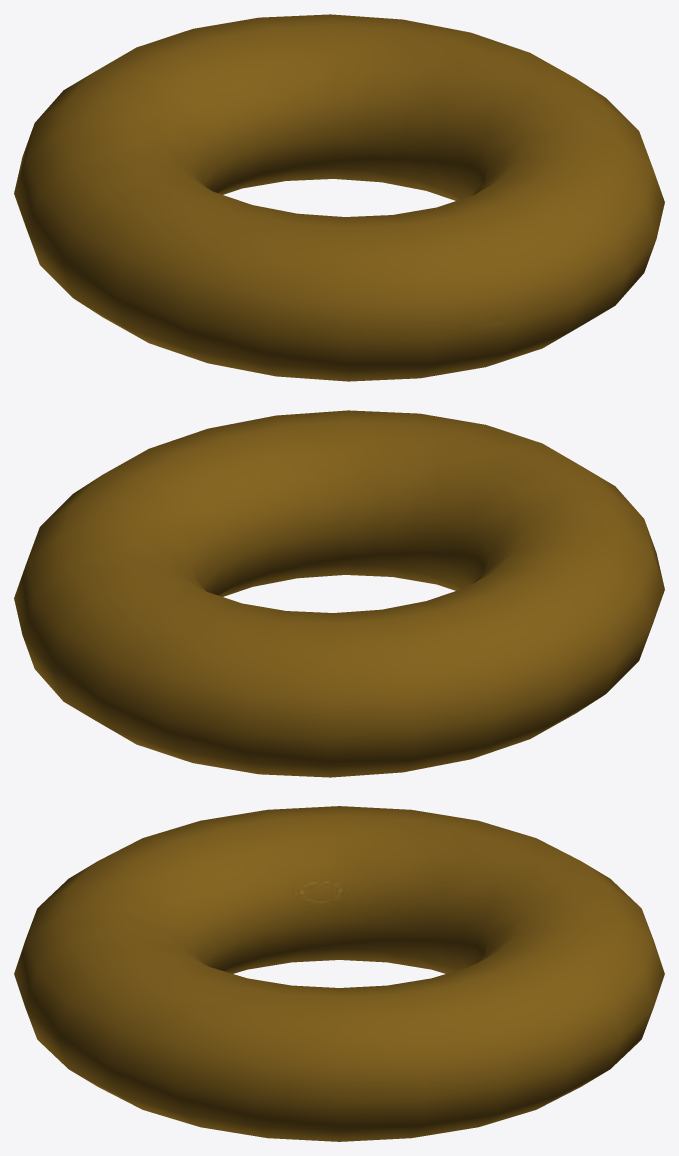
Rendered from Chocodonatu.FBX.
3 renders of one model, top to bottom at view 1: azimuth 30°, elevation 25°; view 2: azimuth 150°, elevation 25°; view 3: azimuth 270°, elevation 25°, orthographic. The views are drawn at different scales.
Visible parts, largest first — view 1: Torus038; view 2: Torus038; view 3: Torus038.
Part boxes in pixels (x1,y1,x2,y2): Torus038: (14, 14, 664, 381); Torus038: (14, 410, 664, 777); Torus038: (14, 806, 664, 1141).
Bounding box in the file's own units: 14.99 × 16.11 × 3.68.
1 material, 1 textured.
